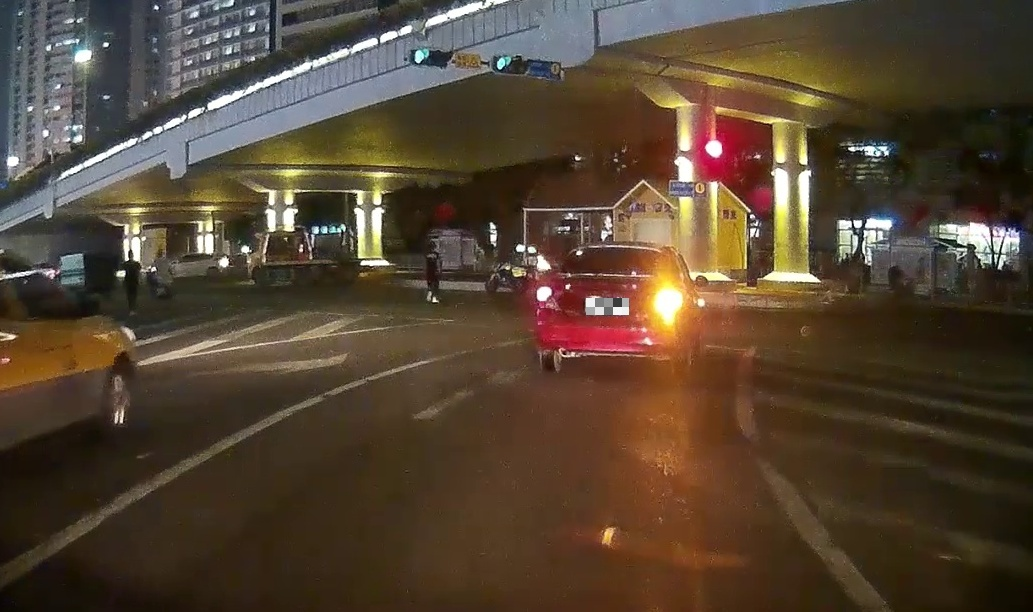L_light: (536, 284, 561, 310)
R_light: (654, 288, 683, 317)
T_light: (603, 245, 623, 250)
night-right: (534, 242, 686, 371)
plate_1: (586, 298, 629, 315)
